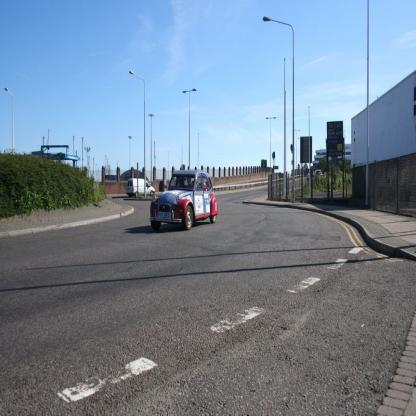car: (151, 171, 220, 230)
